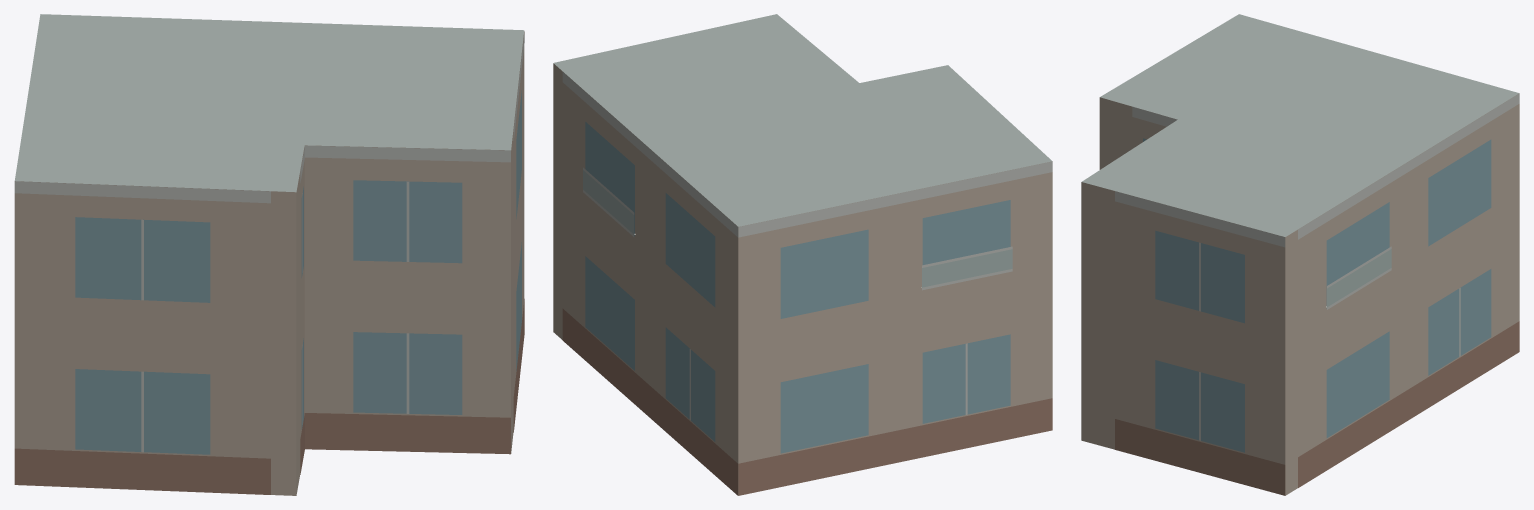
The model's file is survey-upis-32564173.glb.
The picture shows the model from 3 angles, left to right: view 1: azimuth 30°, elevation 25°; view 2: azimuth 150°, elevation 25°; view 3: azimuth 270°, elevation 25°; orthographic projection. The views are drawn at different scales.
Visible parts, largest first — view 1: survey-upis-32564173.tmp; view 2: survey-upis-32564173.tmp; view 3: survey-upis-32564173.tmp.
Boxes of the visible parts, <box> form: survey-upis-32564173.tmp: <box>14,14,524,495</box>; survey-upis-32564173.tmp: <box>553,14,1052,495</box>; survey-upis-32564173.tmp: <box>1081,14,1519,495</box>.
Size of the model in its own units: 11.29 by 6.1 by 9.37.
